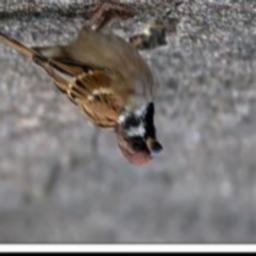Sparrow: (0, 0, 169, 171)
